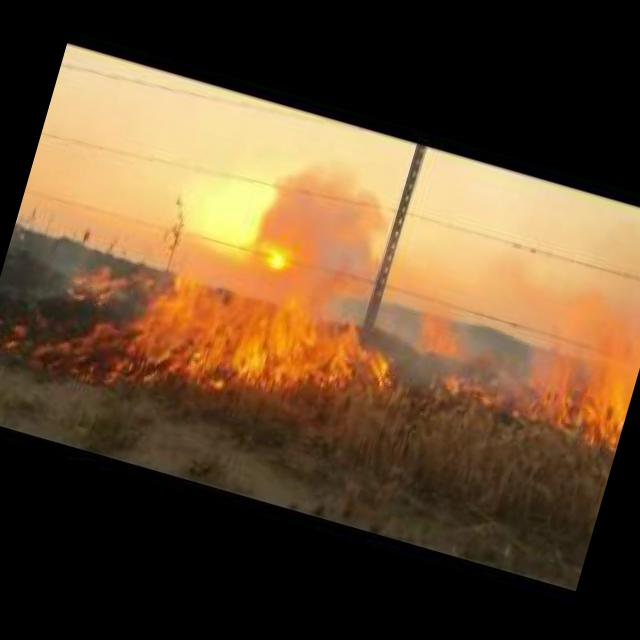fire: (54, 214, 384, 442), (511, 267, 640, 442), (439, 366, 502, 407), (418, 310, 466, 358)
